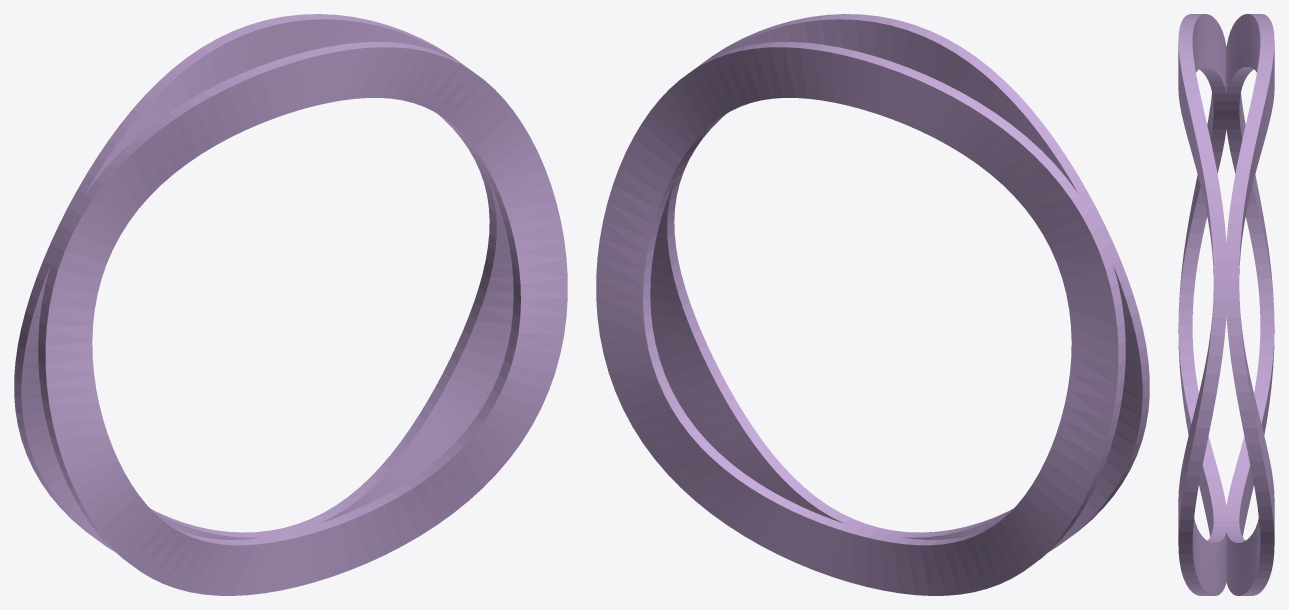
Rendered from wave_spring_demo.glb.
The picture shows the model from 3 angles, left to right: view 1: azimuth 30°, elevation 25°; view 2: azimuth 150°, elevation 25°; view 3: azimuth 270°, elevation 25°; orthographic projection. The views are drawn at different scales.
Visible parts, largest first — view 1: crest_to_crest_spring; view 2: crest_to_crest_spring; view 3: crest_to_crest_spring.
Part boxes in pixels (box(x1,y1,x2,y2)): crest_to_crest_spring: box(14, 14, 567, 595); crest_to_crest_spring: box(596, 14, 1149, 595); crest_to_crest_spring: box(1178, 14, 1274, 595).
Size of the model in its own units: 33 by 33 by 5.45.
